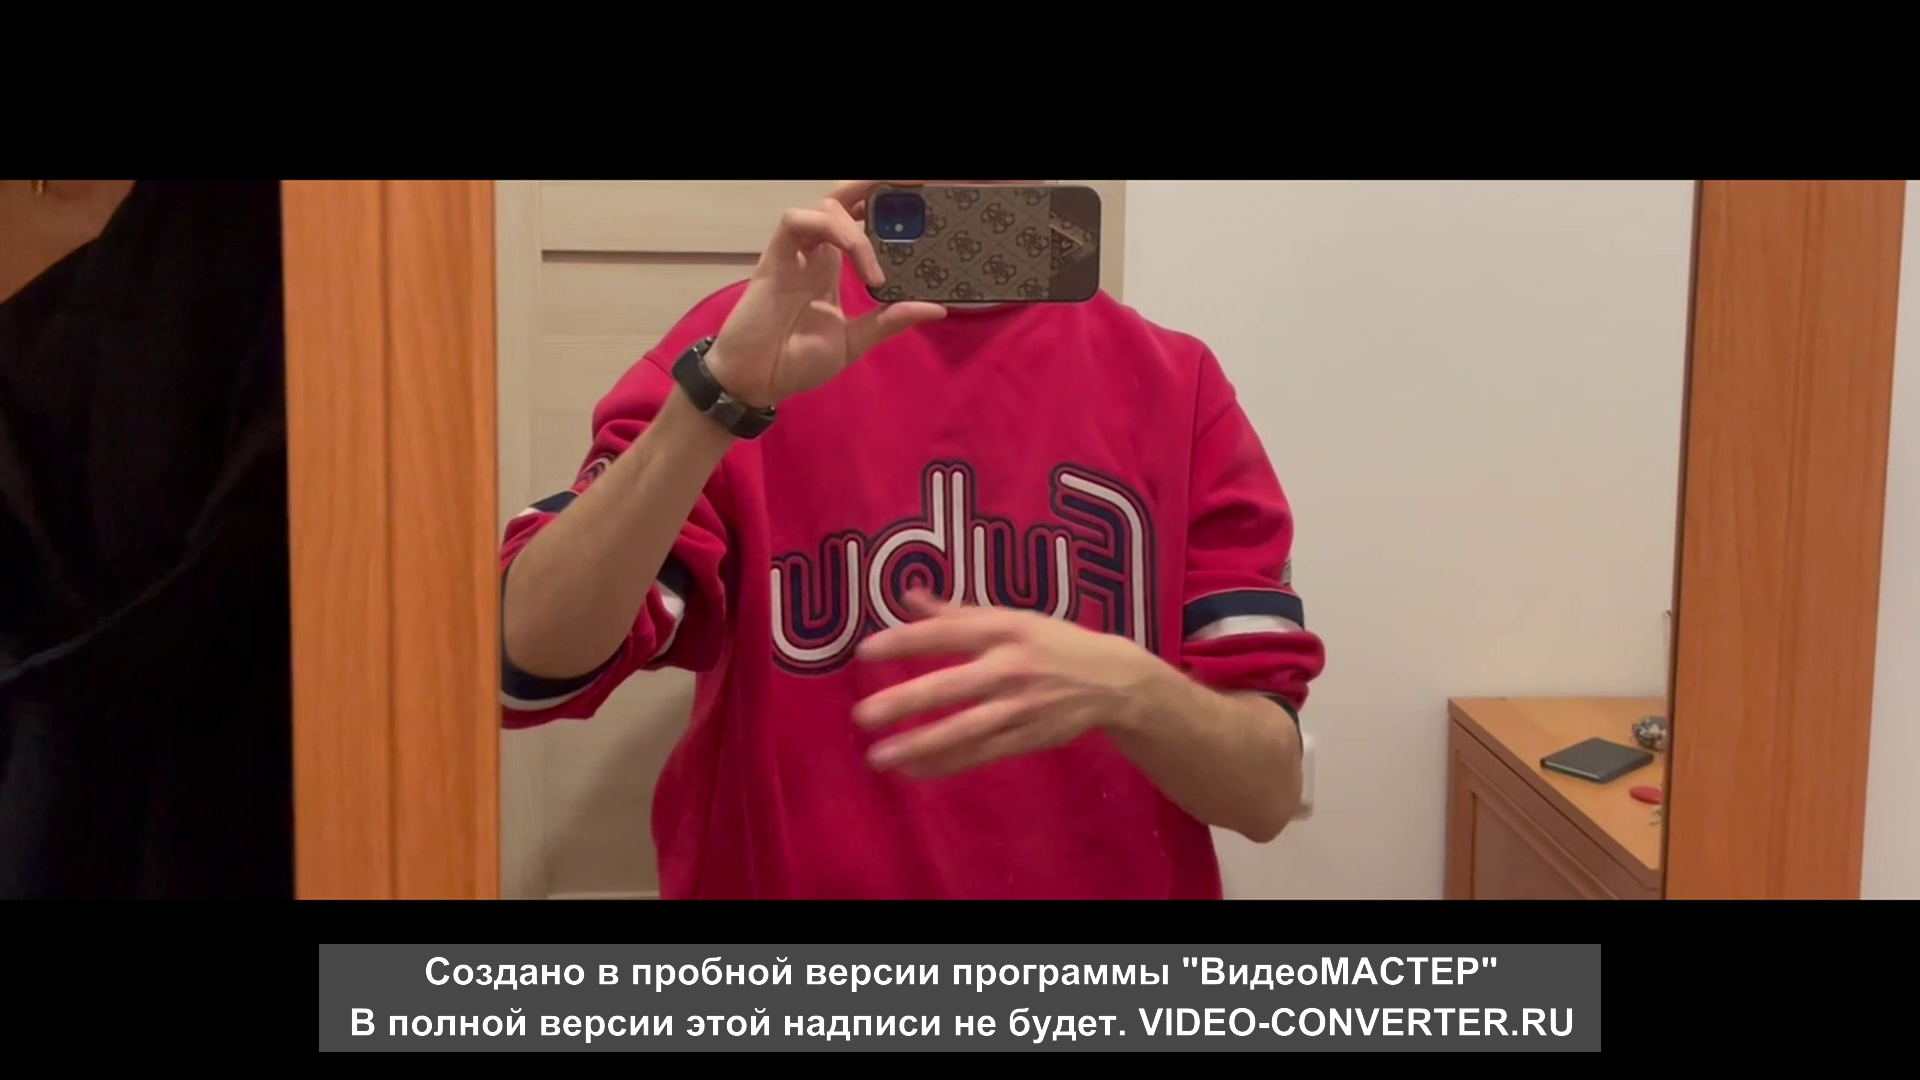Кисть: (856, 591, 1121, 781)
